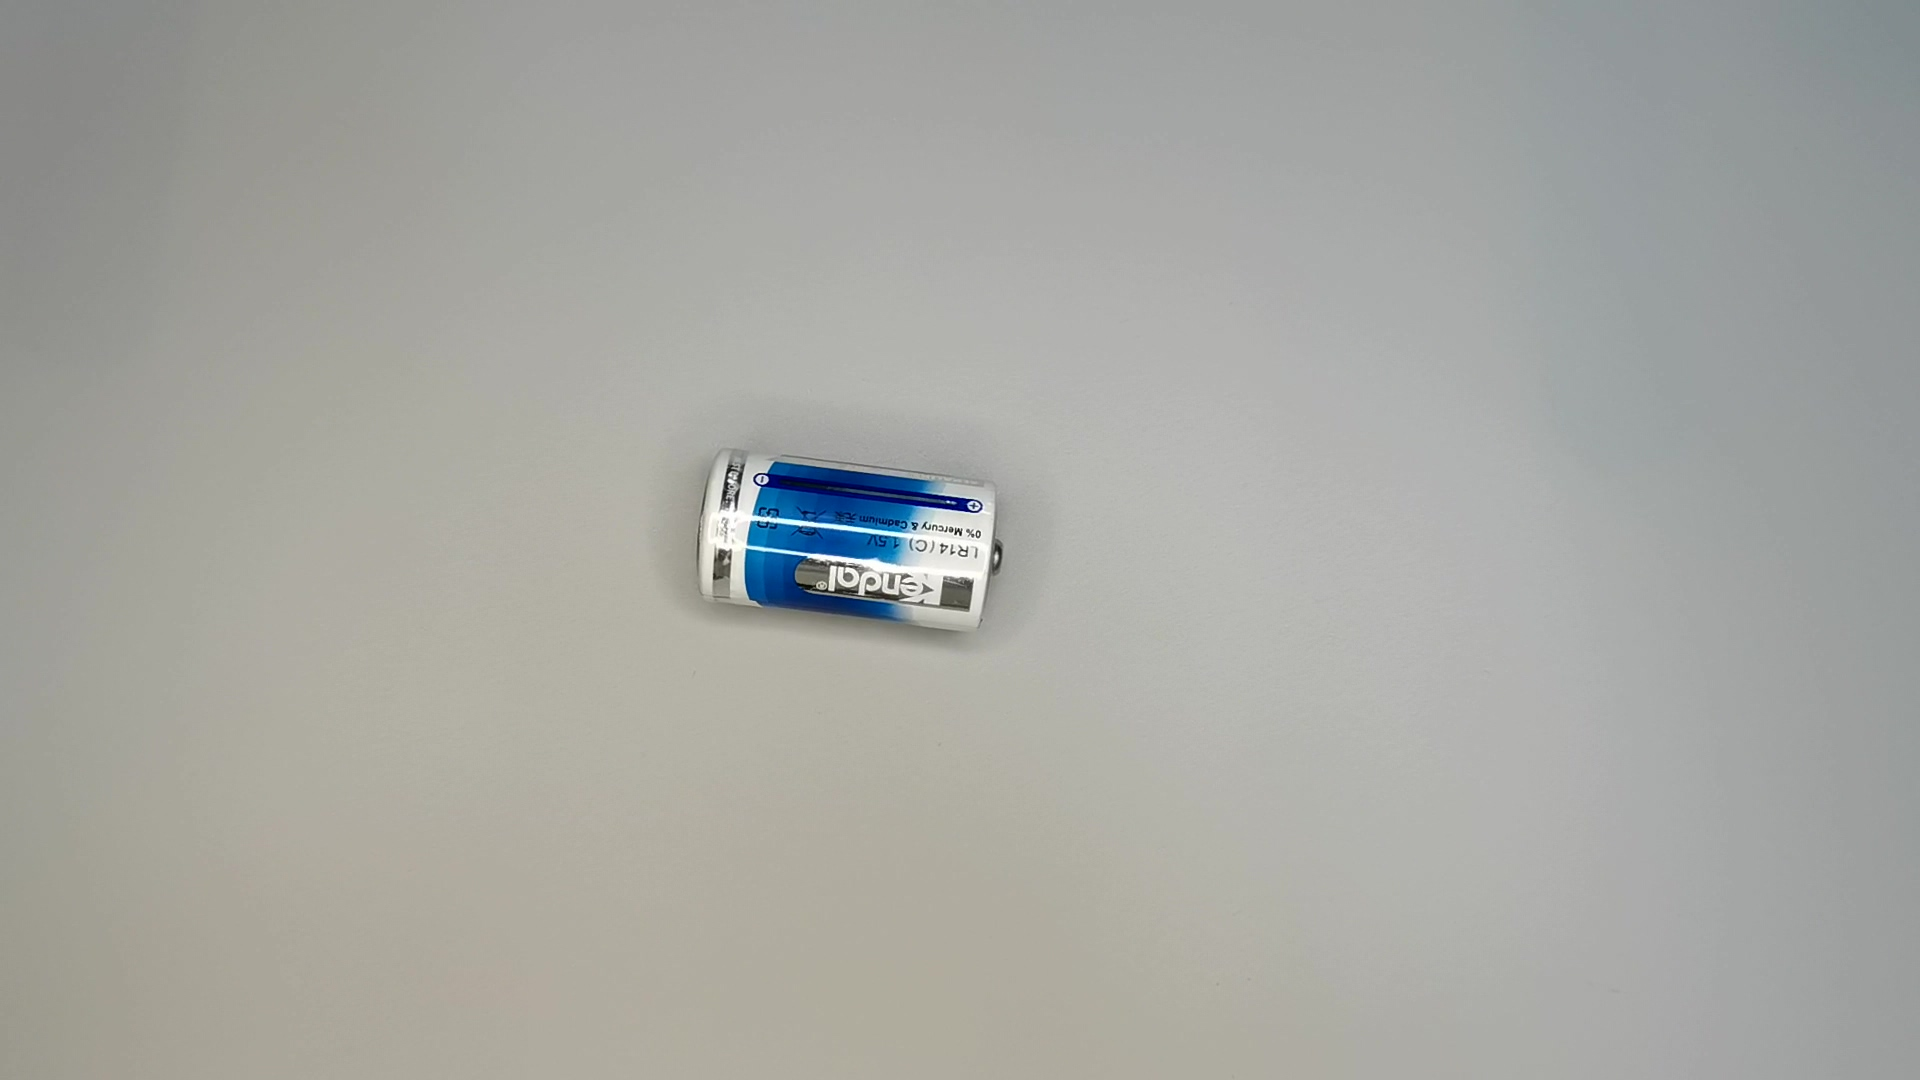battery: (696, 439, 1015, 646)
